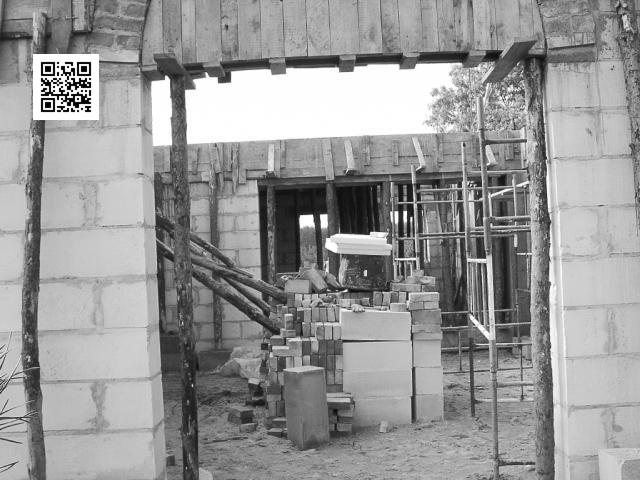qr_code: (32, 53, 99, 119)
